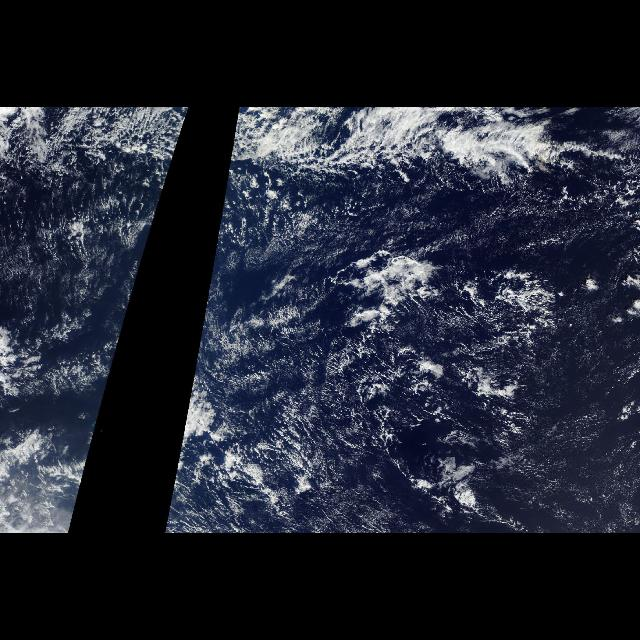Fish: (328, 250, 552, 518), (217, 110, 639, 234), (0, 110, 188, 234)
